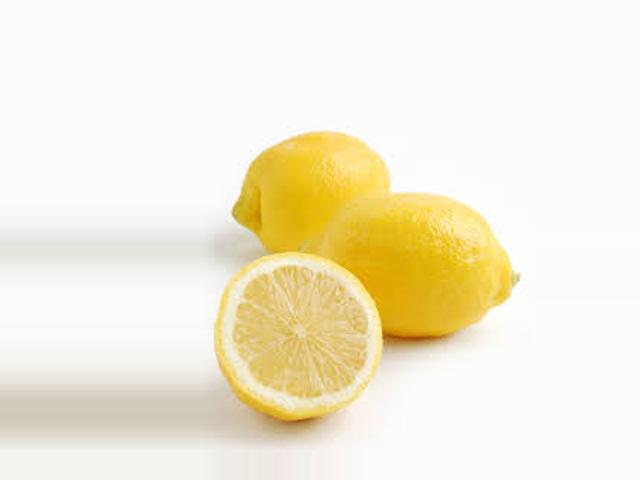lemon: (220, 124, 403, 258)
